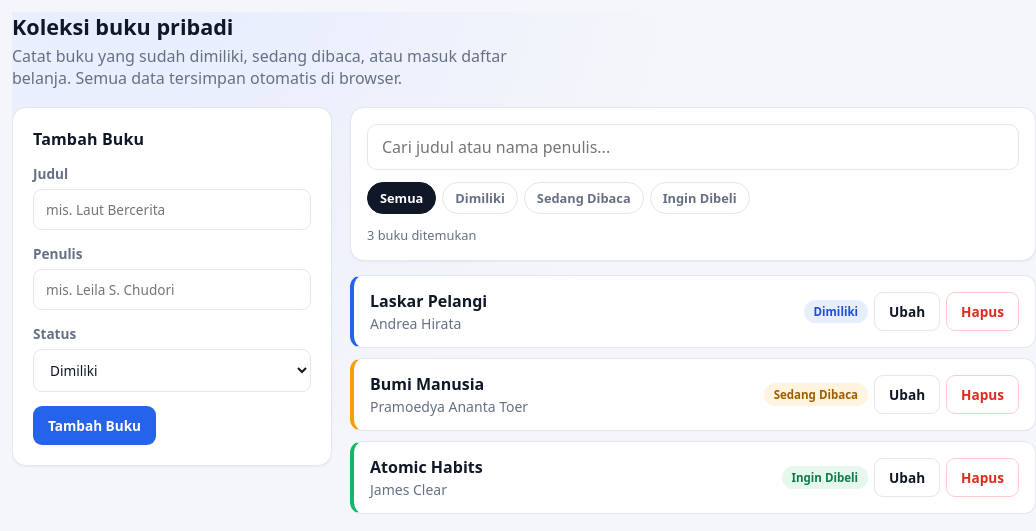
Home › mengubah buku lalu kembali ke mode tambah
Click the button "Ubah" in the row of "Laskar Pelangi" at (907, 312), box [874,292,940,331]
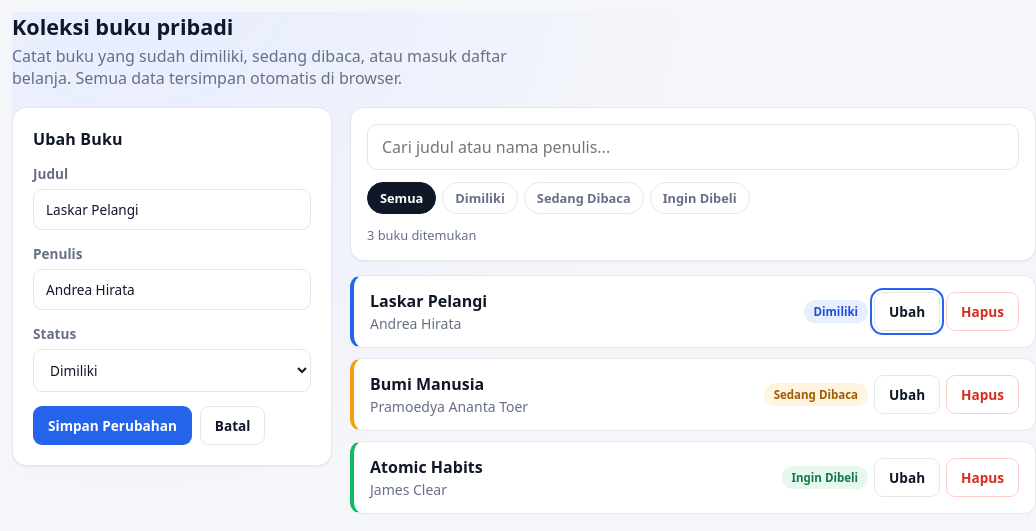
Result: the heading "Ubah Buku" is shown at [33,128,123,150]
Replace the text in the field labelled "Judul" with "Laskar Pelangi (Edisi Baru)" at (172, 210), box [33,189,311,230]
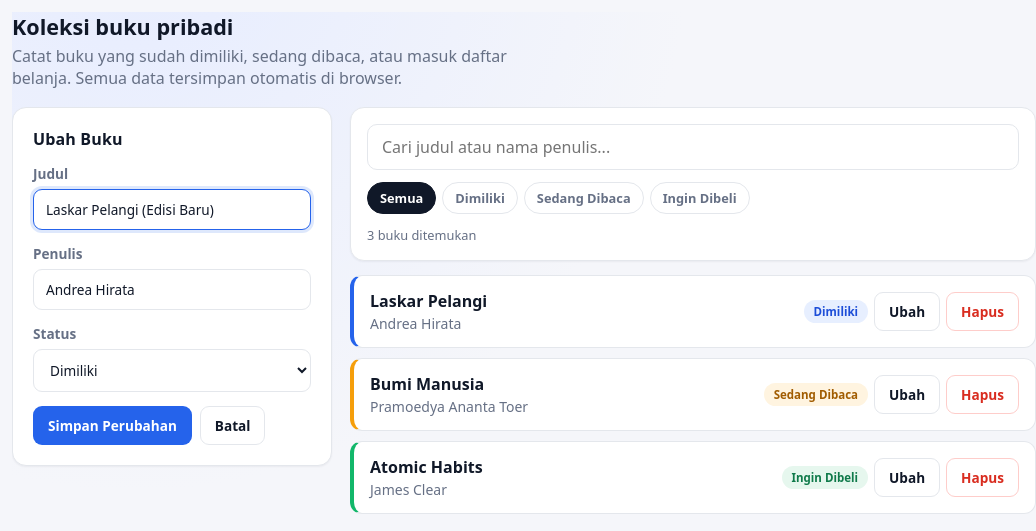
Click the button "Simpan Perubahan" at (112, 426), box [33,406,192,445]
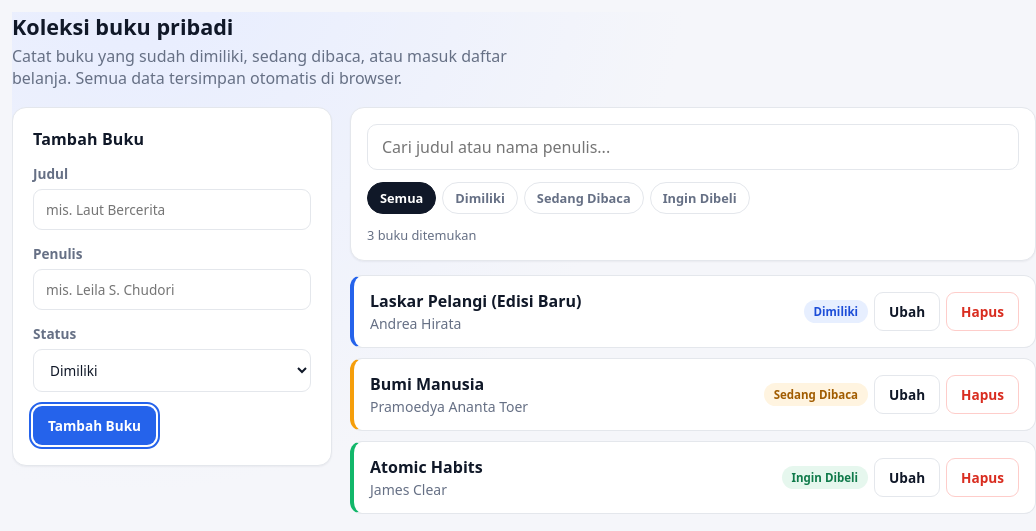
Result: the heading "Laskar Pelangi (Edisi Baru)" is shown at [370,290,581,312]
Result: the heading "Tambah Buku" is shown at [33,128,144,150]
